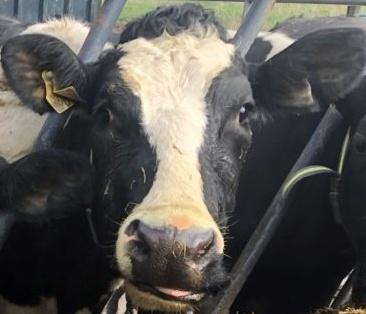muzzles: (109, 206, 230, 312)
